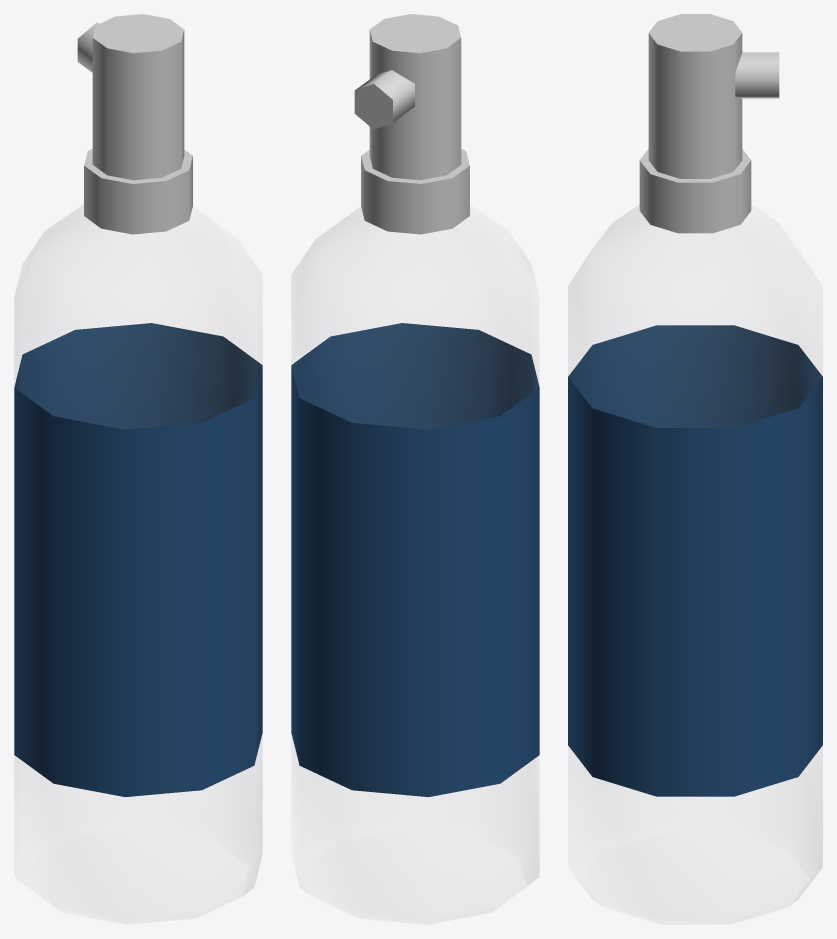
File: cleaning_spray.fbx
The picture shows the model from 3 angles, left to right: view 1: azimuth 30°, elevation 25°; view 2: azimuth 150°, elevation 25°; view 3: azimuth 270°, elevation 25°; orthographic projection.
Visible parts, largest first — view 1: cleaning_spray_base, cleaning_spray_cap; view 2: cleaning_spray_base, cleaning_spray_cap; view 3: cleaning_spray_base, cleaning_spray_cap.
Part boxes in pixels (left/top/right/bottom): cleaning_spray_base: left=14, top=149, right=262, bottom=924; cleaning_spray_cap: left=77, top=14, right=184, bottom=180; cleaning_spray_base: left=291, top=149, right=539, bottom=924; cleaning_spray_cap: left=354, top=14, right=461, bottom=180; cleaning_spray_base: left=568, top=149, right=822, bottom=924; cleaning_spray_cap: left=648, top=14, right=779, bottom=178.
Size of the model in its own units: 0.0571 by 0.06 by 0.22.
